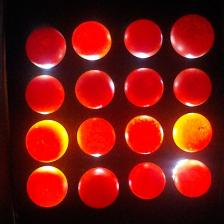fertile: (170, 13, 215, 60), (24, 26, 68, 68), (78, 167, 119, 210), (75, 68, 115, 110), (25, 74, 66, 114), (124, 18, 163, 60), (124, 68, 164, 107), (173, 68, 213, 107)
infertile: (25, 119, 69, 162), (26, 166, 68, 207), (76, 116, 116, 158), (71, 20, 112, 60), (124, 114, 164, 155), (173, 112, 213, 152), (172, 158, 212, 197), (129, 162, 166, 200)
